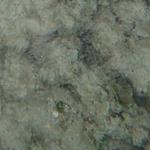dead: (1, 6, 146, 148)
